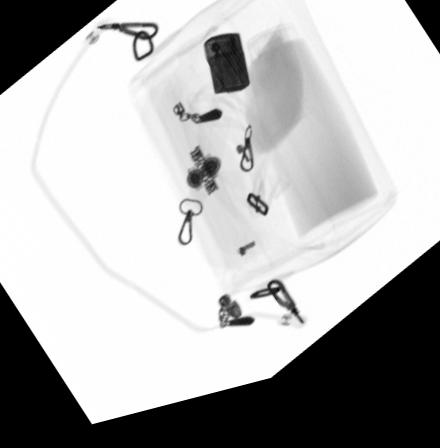Lighter: (203, 44, 251, 106)
